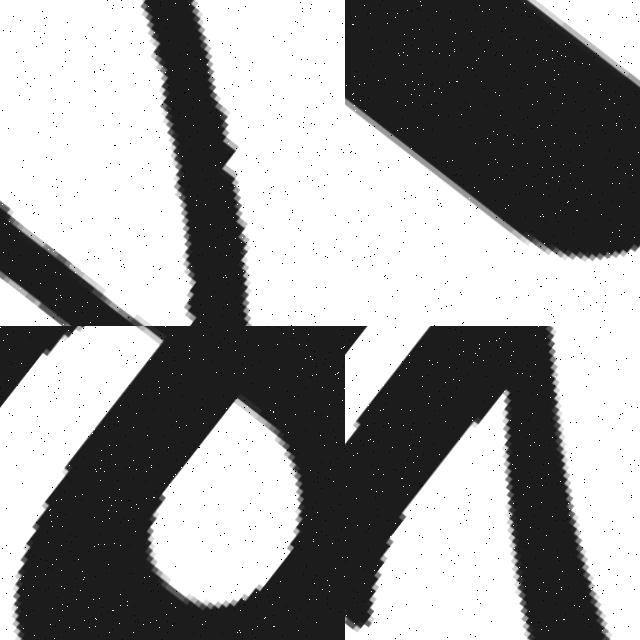7: (345, 326, 640, 640)
A: (0, 326, 345, 640)
T: (345, 0, 640, 326)
V: (0, 0, 345, 326)
